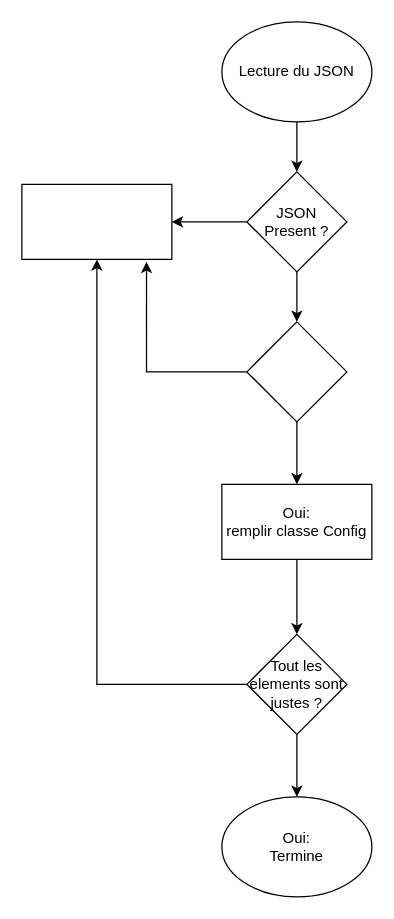
Image size: 394x919. Some labels were removed from this diagram. The centre of each missing label's shape, as x and y in pixels:
Non: Exit: the point at 96,221
Oui: JSON Valide ?: the point at 296,371
